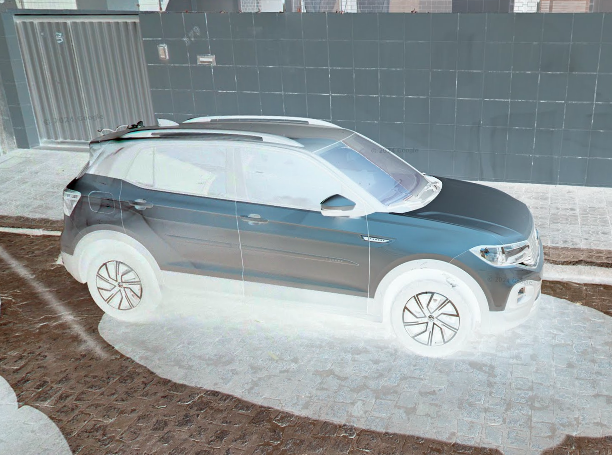car: (57, 114, 547, 359)
